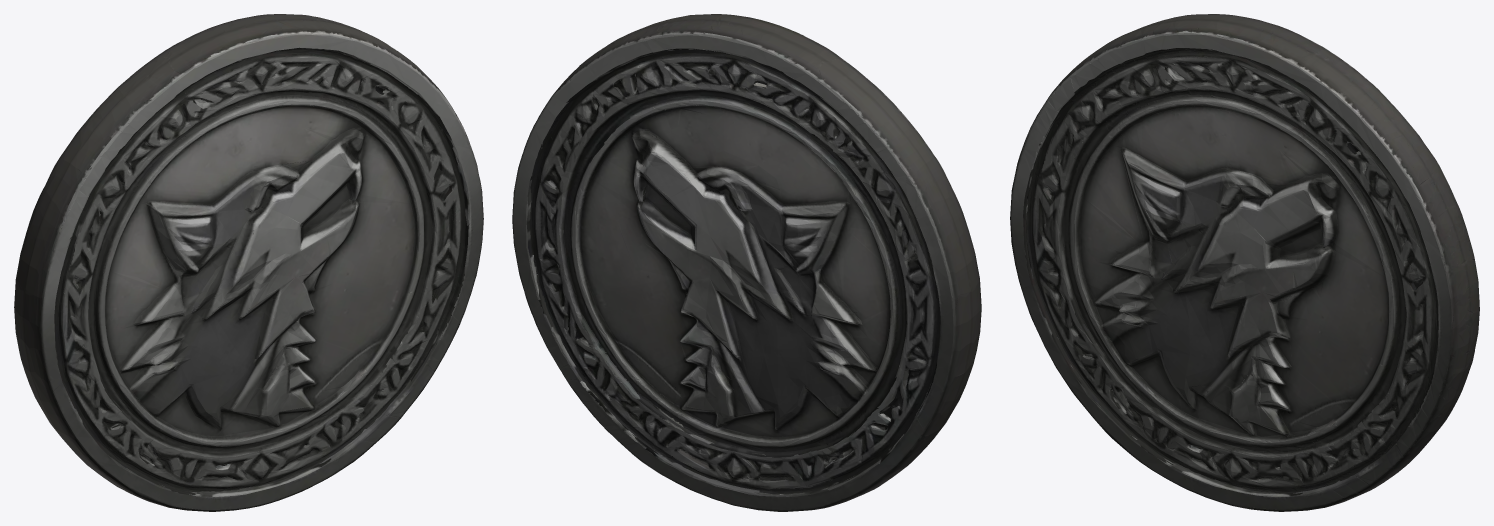
The model's file is coin.glb.
3 views of the same model, side by side, from view 1: azimuth 30°, elevation 25°; view 2: azimuth 150°, elevation 25°; view 3: azimuth 330°, elevation 25° (orthographic).
Parts seen in each view (by area): view 1: world; view 2: world; view 3: world.
Part boxes in pixels (x1,y1,x2,y2): world: (14,14,483,511); world: (512,14,981,511); world: (1010,14,1479,511).
Size of the model in its own units: 1.99 by 1.99 by 0.2537.
Materials: 1 (1 with a texture image).
